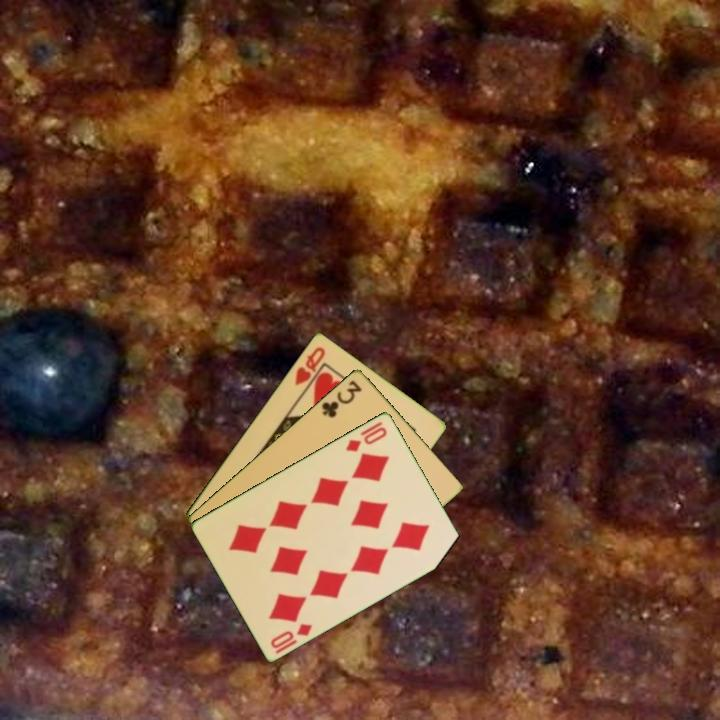10d: (267, 619, 315, 656), (342, 418, 390, 454)
3c: (318, 376, 365, 420)
Qh: (291, 343, 328, 388)
